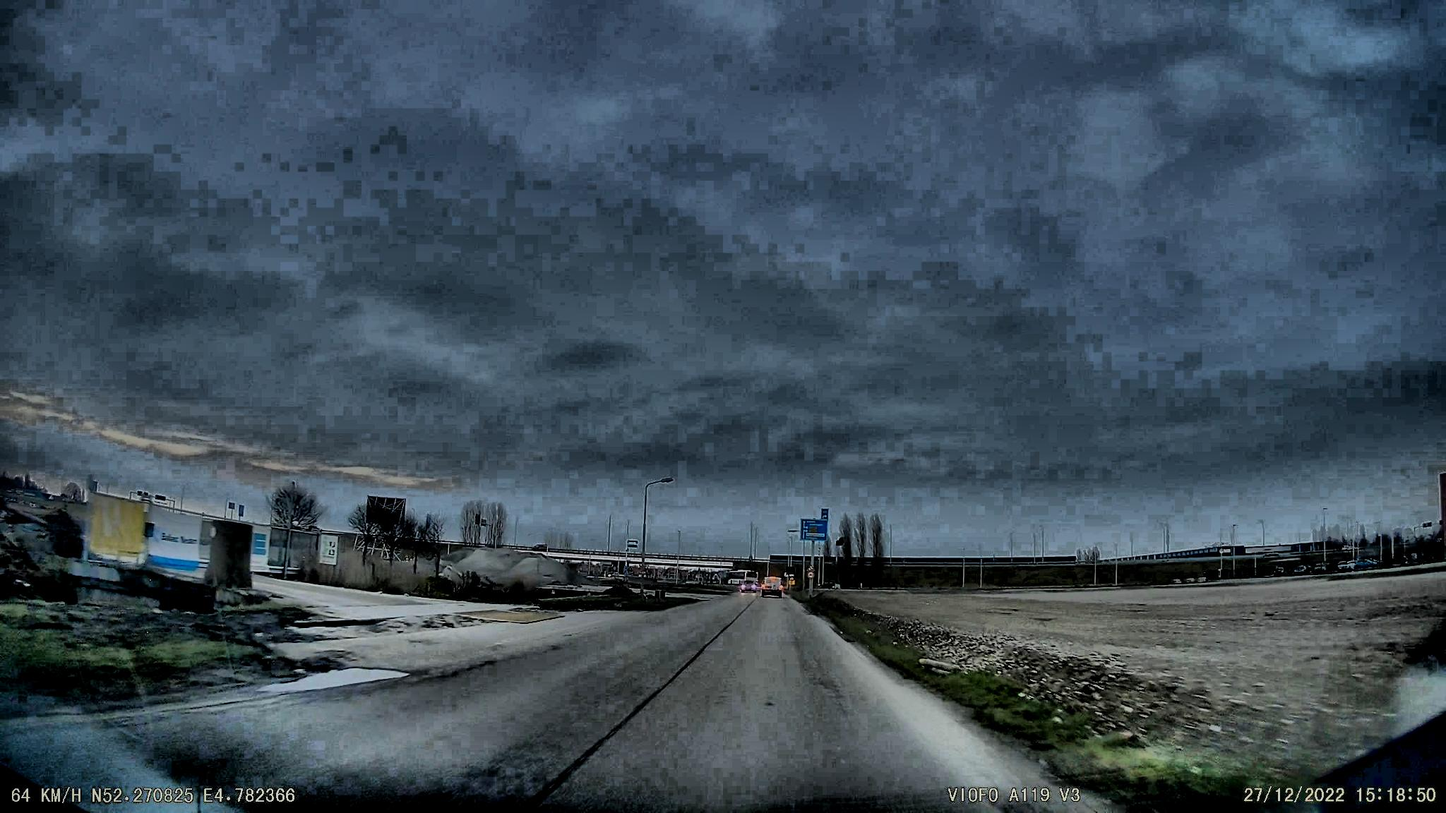Roads: (0, 596, 1159, 813)
